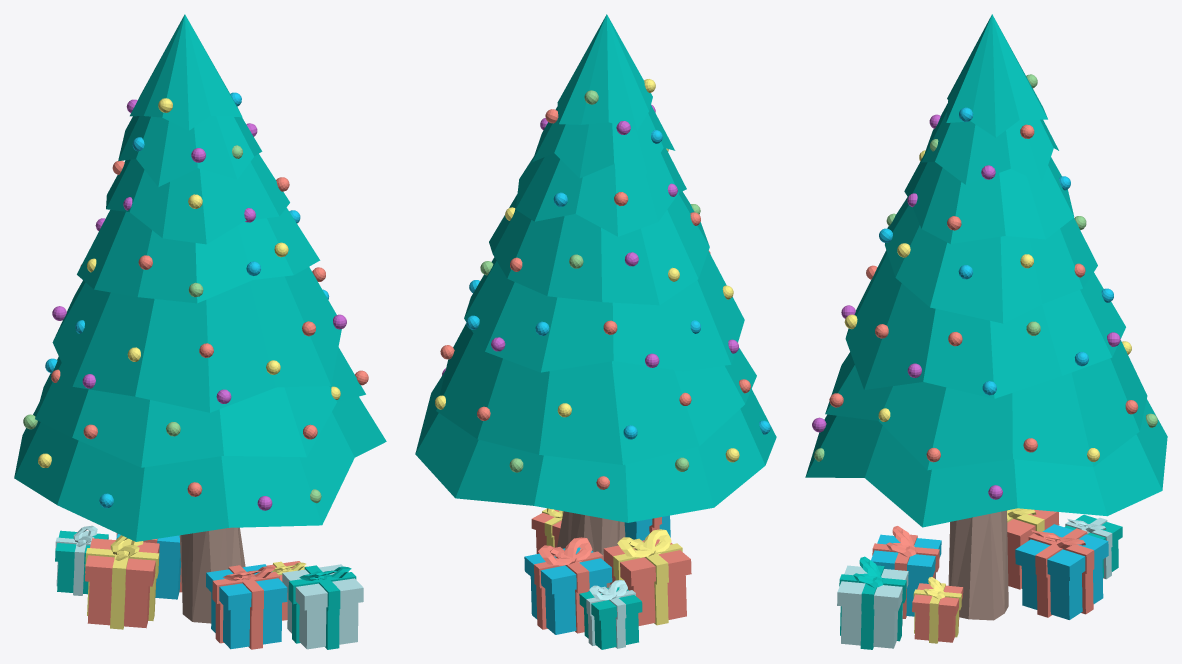
Rendered from ChristmasTree.fbx.
The picture shows the model from 3 angles, left to right: view 1: azimuth 30°, elevation 25°; view 2: azimuth 150°, elevation 25°; view 3: azimuth 270°, elevation 25°; orthographic projection. The views are drawn at different scales.
Visible parts, largest first — view 1: mesh1172644466, mesh313069409, mesh1057669938; view 2: mesh1172644466, mesh1057669938, mesh313069409; view 3: mesh1172644466, mesh313069409, mesh1057669938.
Boxes of the visible parts, left/top/right/bottom form: mesh1172644466: left=14, top=14, right=386, bottom=623; mesh313069409: left=206, top=561, right=363, bottom=649; mesh1057669938: left=55, top=525, right=181, bottom=629; mesh1172644466: left=415, top=14, right=776, bottom=587; mesh1057669938: left=524, top=529, right=691, bottom=649; mesh313069409: left=531, top=508, right=670, bottom=553; mesh1172644466: left=805, top=14, right=1167, bottom=620; mesh313069409: left=837, top=526, right=963, bottom=649; mesh1057669938: left=1007, top=508, right=1122, bottom=619.
Size of the model in its own units: 48.29 by 88.48 by 49.26.
